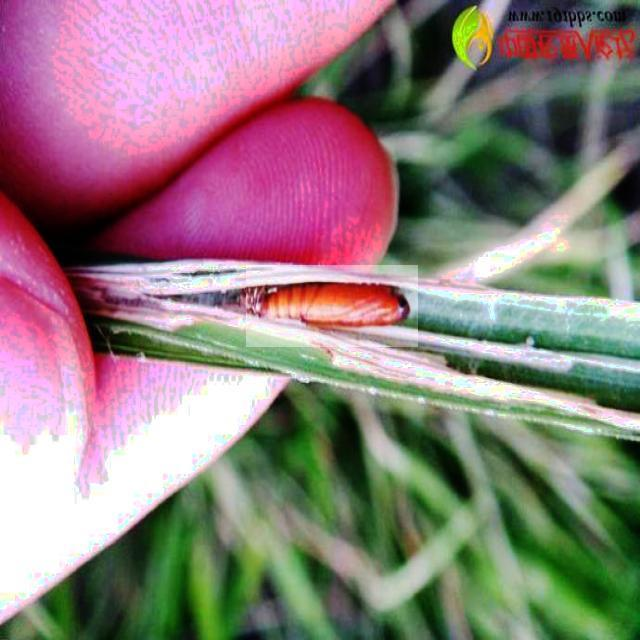leaf-folder: (246, 266, 418, 348)
